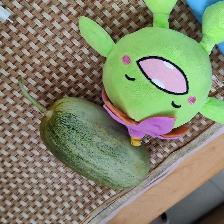gua: (47, 108, 154, 186)
